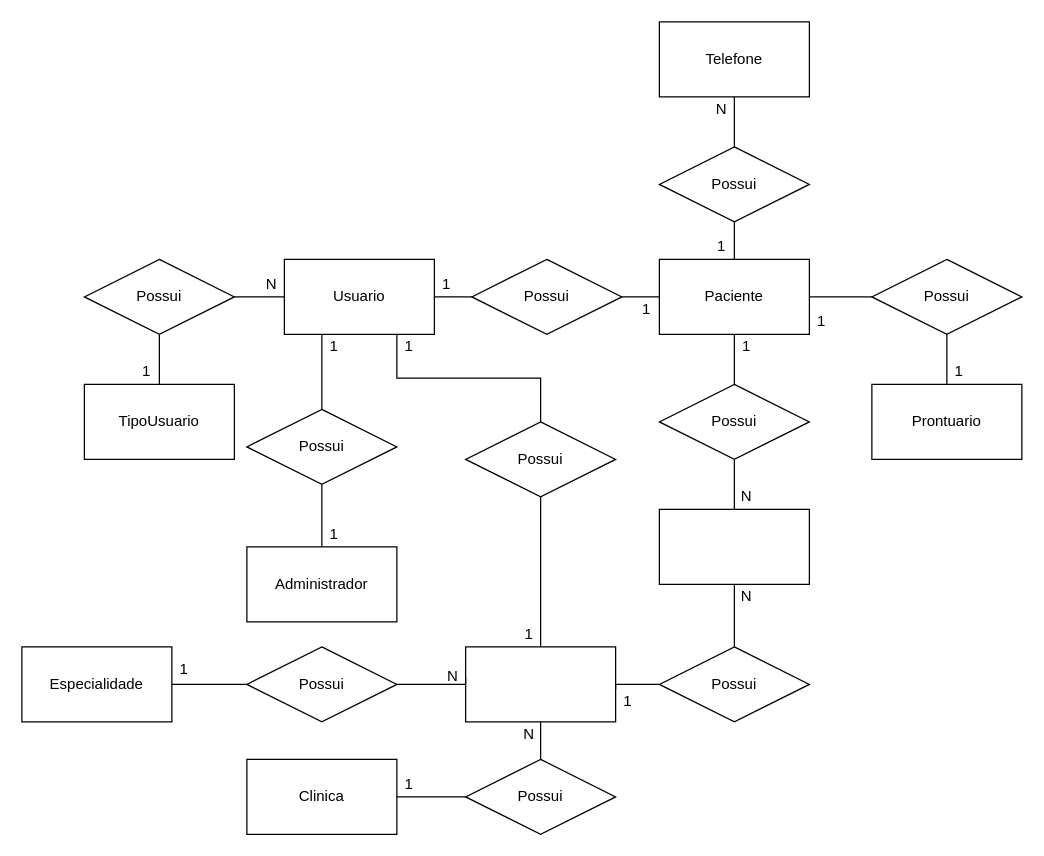
Image size: 1044x856. Some labels were removed from this diagram. Here are the shapes that lost their labels. From the top down, the centre of each, then its label:
the point at 733,546: Consulta
the point at 540,684: Medico
